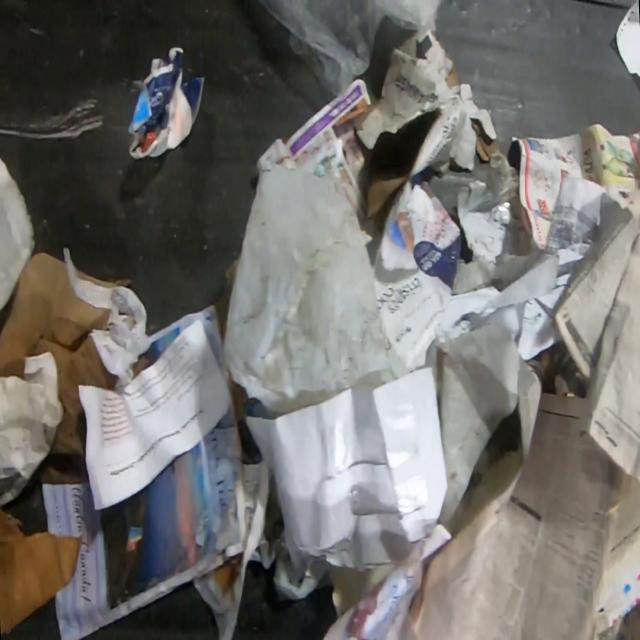cardboard: (352, 31, 503, 218), (0, 251, 119, 457), (0, 508, 84, 636), (74, 267, 132, 289)
soft_plastic: (257, 0, 445, 99)
